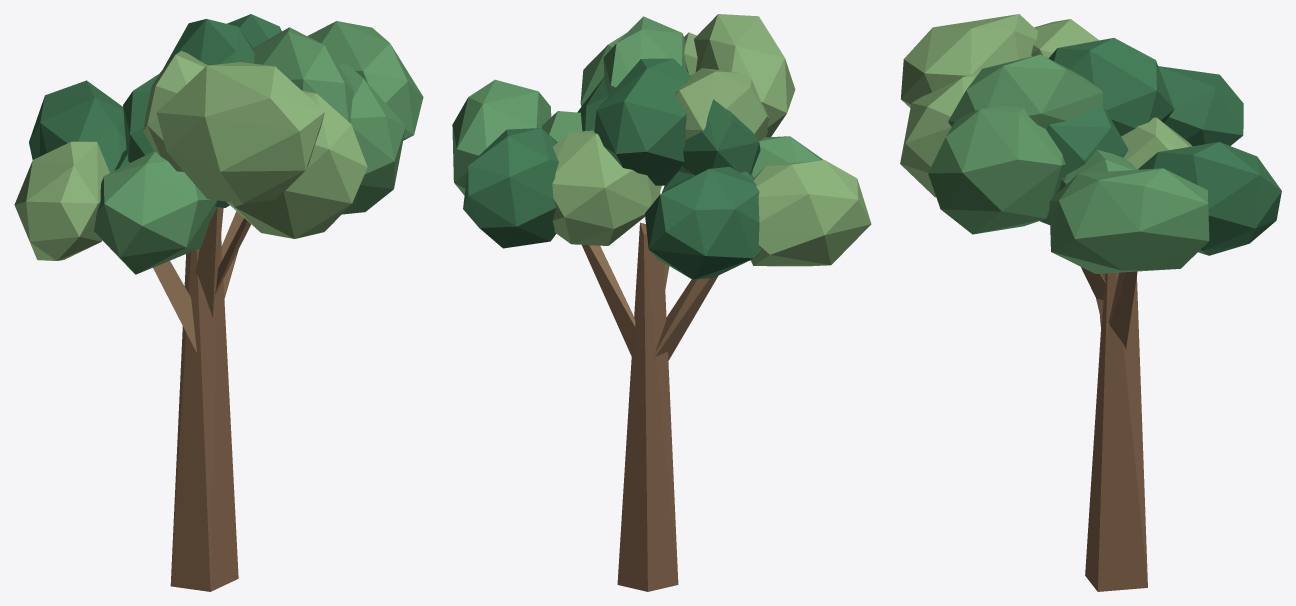
Rendered from tree_broadleaf_a.glb.
3 renders of one model, left to right at view 1: azimuth 30°, elevation 25°; view 2: azimuth 150°, elevation 25°; view 3: azimuth 270°, elevation 25°, orthographic. The views are drawn at different scales.
Parts seen in each view (by area): view 1: Tree_Broadleaf_A; view 2: Tree_Broadleaf_A; view 3: Tree_Broadleaf_A.
Part boxes in pixels (x1,y1,x2,y2): Tree_Broadleaf_A: [14, 14, 423, 591]; Tree_Broadleaf_A: [452, 14, 871, 591]; Tree_Broadleaf_A: [900, 14, 1281, 591].
Bounding box in the file's own units: 12.11 × 15.88 × 9.99.
